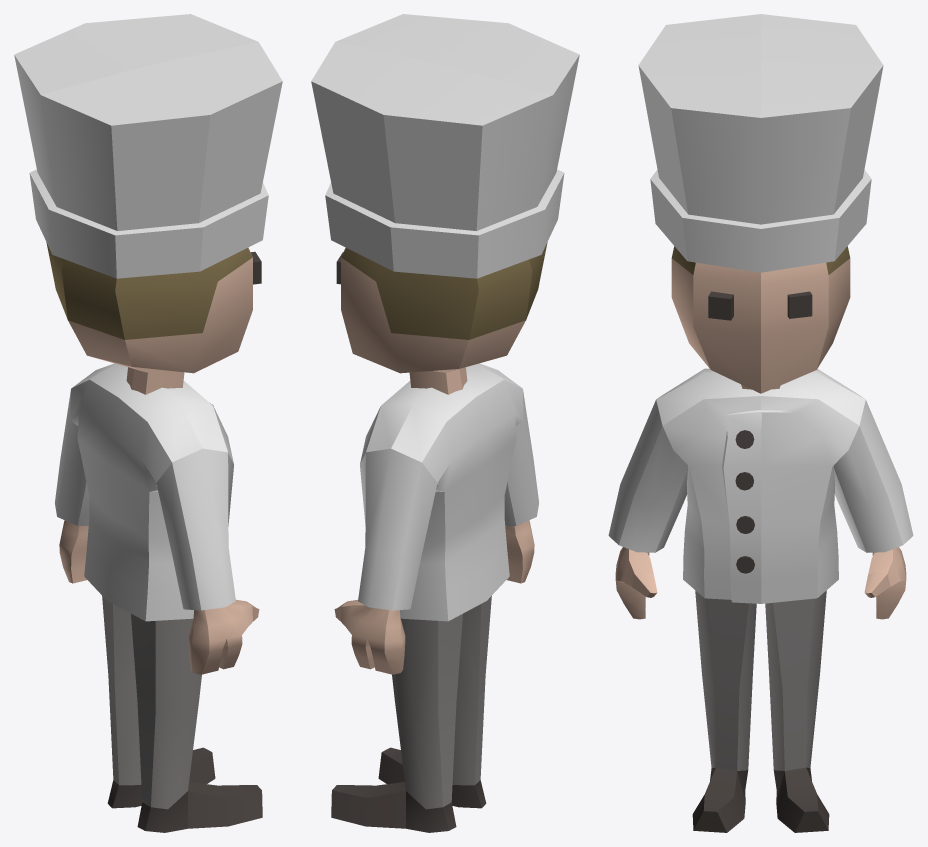
Rendered from Chef.fbx.
3 views of the same model, side by side, from view 1: azimuth 30°, elevation 25°; view 2: azimuth 150°, elevation 25°; view 3: azimuth 270°, elevation 25° (orthographic). The views are drawn at different scales.
Visible parts, largest first — view 1: geo_Chef; view 2: geo_Chef; view 3: geo_Chef.
Boxes of the visible parts, <box> form: geo_Chef: <box>14,14,282,832</box>; geo_Chef: <box>311,14,579,832</box>; geo_Chef: <box>608,14,913,832</box>.
Size of the model in its own units: 0.531 by 1.74 by 0.6577.
